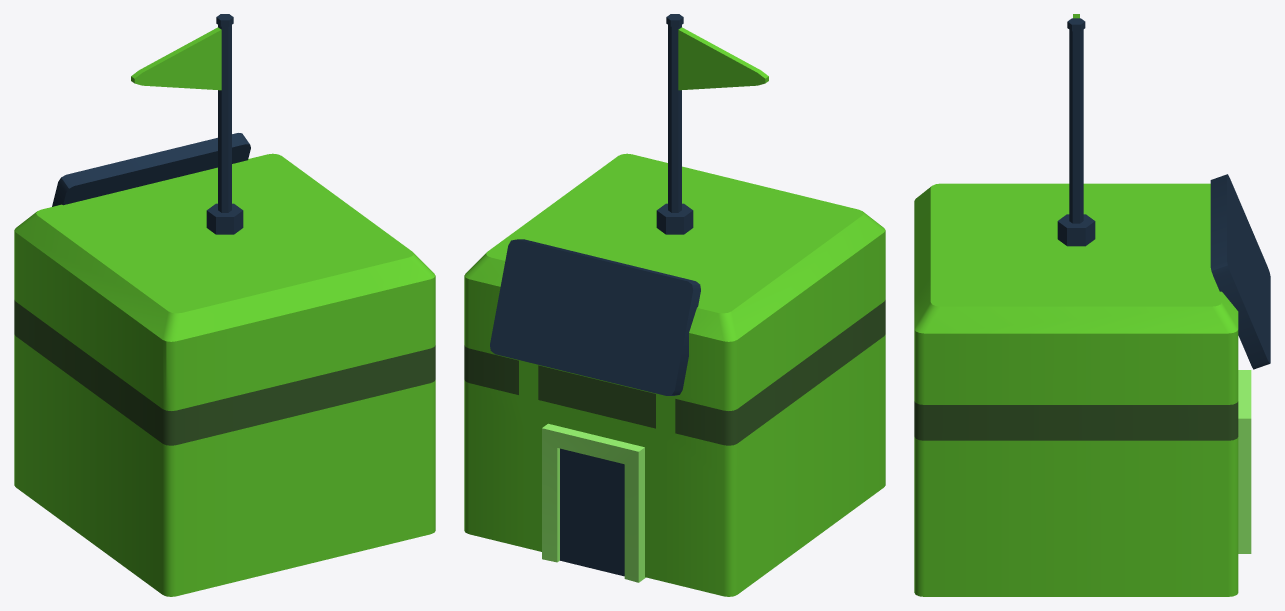
The model's file is SM_Castle.fbx.
The picture shows the model from 3 angles, left to right: view 1: azimuth 30°, elevation 25°; view 2: azimuth 150°, elevation 25°; view 3: azimuth 270°, elevation 25°; orthographic projection. The views are drawn at different scales.
Visible parts, largest first — view 1: Cube.004; view 2: Cube.004; view 3: Cube.004.
Boxes of the visible parts, bbox=[...] form: Cube.004: bbox=[14, 14, 435, 596]; Cube.004: bbox=[464, 14, 885, 596]; Cube.004: bbox=[914, 14, 1270, 596].
Size of the model in its own units: 2 by 3.46 by 2.2.
